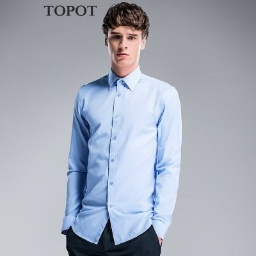face: (101, 2, 150, 72)
